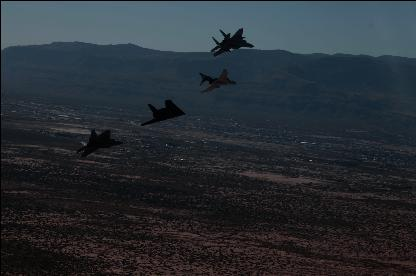E7: (140, 98, 186, 124)
F117: (210, 27, 254, 55)
F18: (76, 128, 122, 156)
F35: (198, 67, 236, 91)
